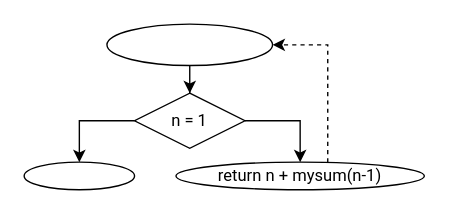
Image size: 449x214. Some labels were removed from this diagram. The box of each missing label's shape, as (x1, y1, x2, y2) in pixels:
mysum: (106, 23, 273, 66)
return 1: (23, 161, 135, 190)
